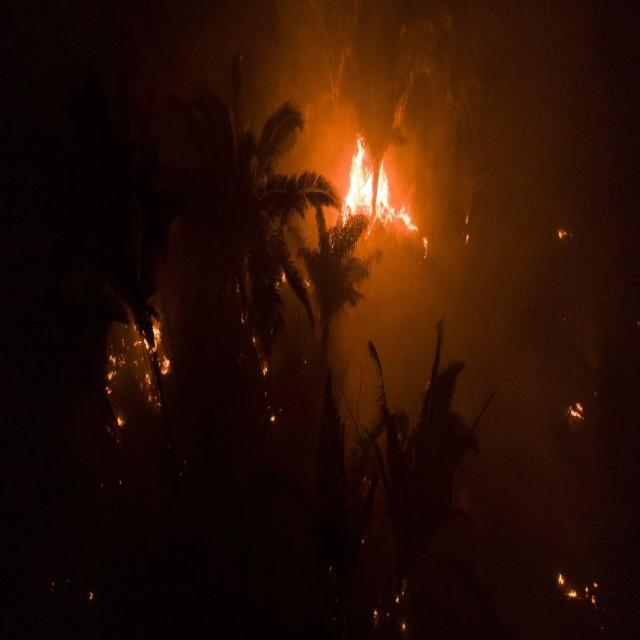Fire: (347, 155, 392, 219)
